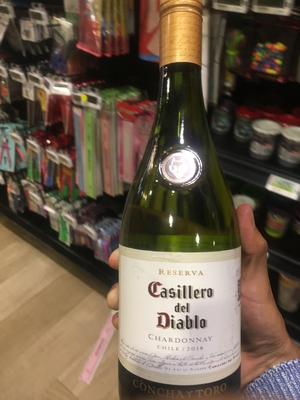casillero del diablo chardonnay: (108, 6, 250, 400)
